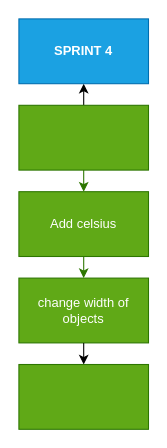
This 167x448 diagram has some shape labels left out. Here are the shapes that lost their labels. From the top down, the centre of each, then its label:
At [83,137]: "Add pictures".
At [83,396]: "Test and debug".
